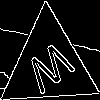W: (23, 39, 81, 100)
